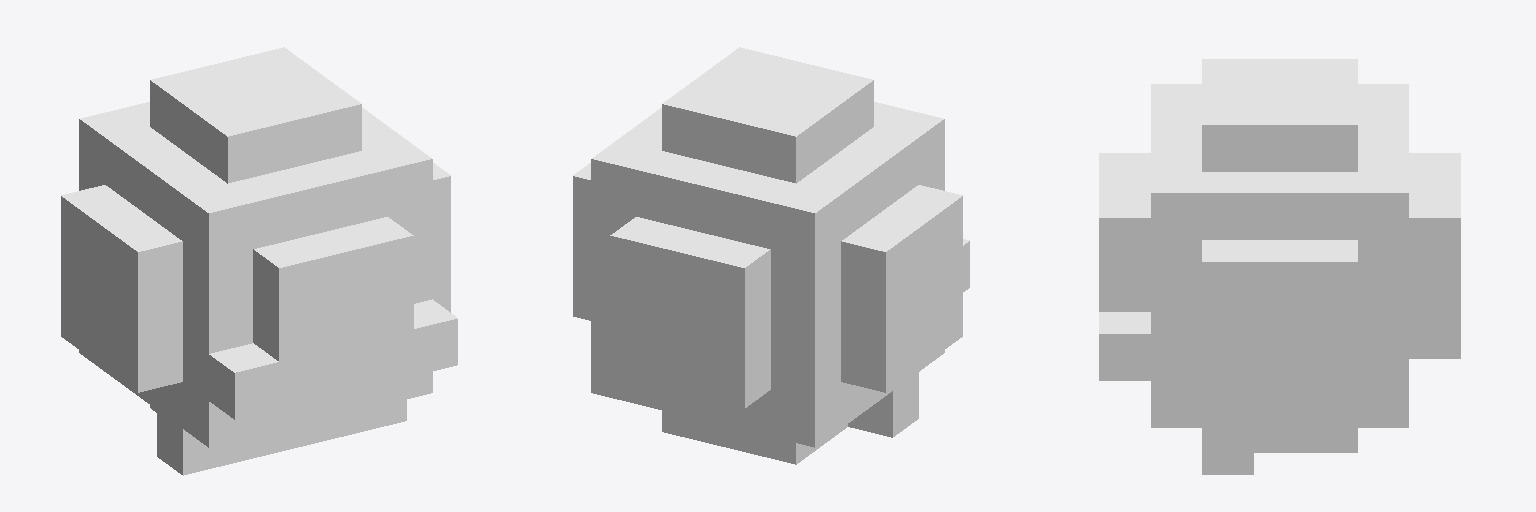
The model's file is Centered_Corgi_Tail.obj.
The picture shows the model from 3 angles: view 1: azimuth 30°, elevation 25°; view 2: azimuth 150°, elevation 25°; view 3: azimuth 270°, elevation 25°; orthographic projection.
Visible parts, largest first — view 1: Corgi_tail; view 2: Corgi_tail; view 3: Corgi_tail.
Part boxes in pixels (x1,y1,x2,y2): Corgi_tail: (61,47,457,475); Corgi_tail: (573,47,969,464); Corgi_tail: (1099,59,1460,474).
Size of the model in its own units: 0.7 by 0.7 by 0.7.